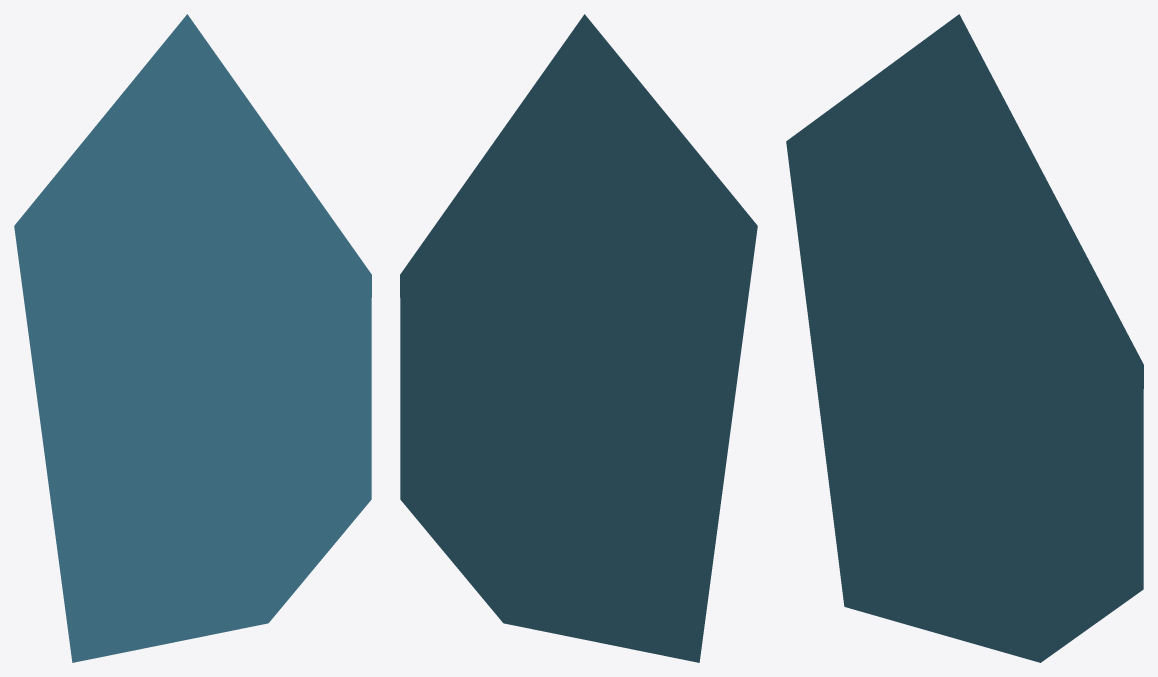
The model's file is NexusA_Cloth_8.fbx.
The picture shows the model from 3 angles, left to right: view 1: azimuth 30°, elevation 25°; view 2: azimuth 150°, elevation 25°; view 3: azimuth 330°, elevation 25°; orthographic projection.
Visible parts, largest first — view 1: pasted__polySurface31; view 2: pasted__polySurface31; view 3: pasted__polySurface31.
Part boxes in pixels (x1,y1,x2,y2): pasted__polySurface31: (14,14,371,662); pasted__polySurface31: (400,14,757,662); pasted__polySurface31: (786,14,1143,662).
Bounding box in the file's own units: 33.23 × 55.85 × 0.
